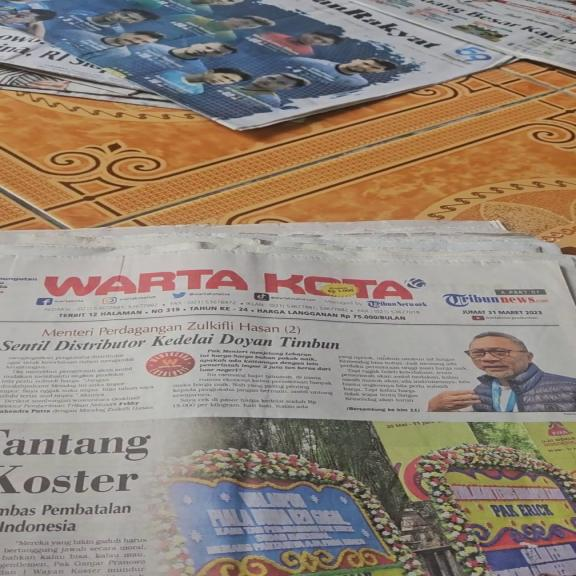Kertas: (5, 246, 568, 574), (0, 0, 576, 71)
